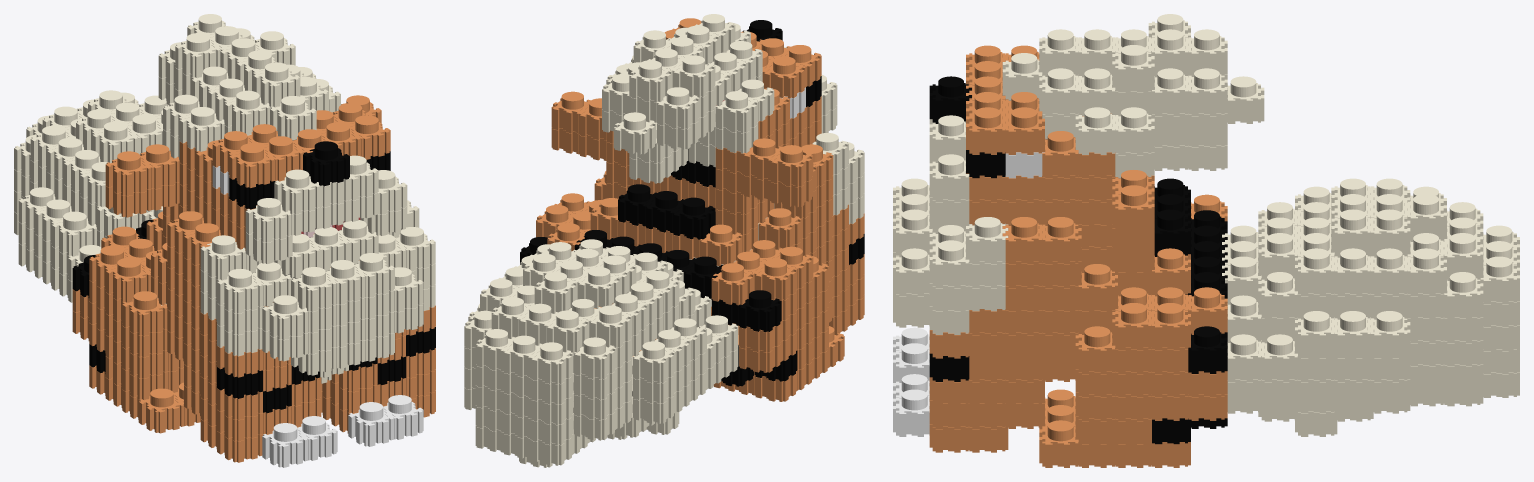
File: Growlithe.glb
3 views of the same model, side by side, from view 1: azimuth 30°, elevation 25°; view 2: azimuth 150°, elevation 25°; view 3: azimuth 270°, elevation 25° (orthographic). The views are drawn at different scales.
Bounding box in the file's own units: 6.32 × 7.55 × 11.84.
